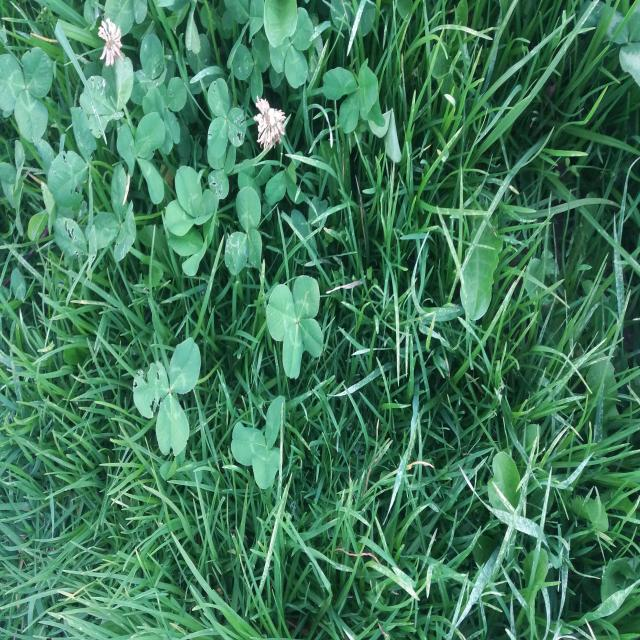Four Leaf Clover: (266, 274, 323, 379)
